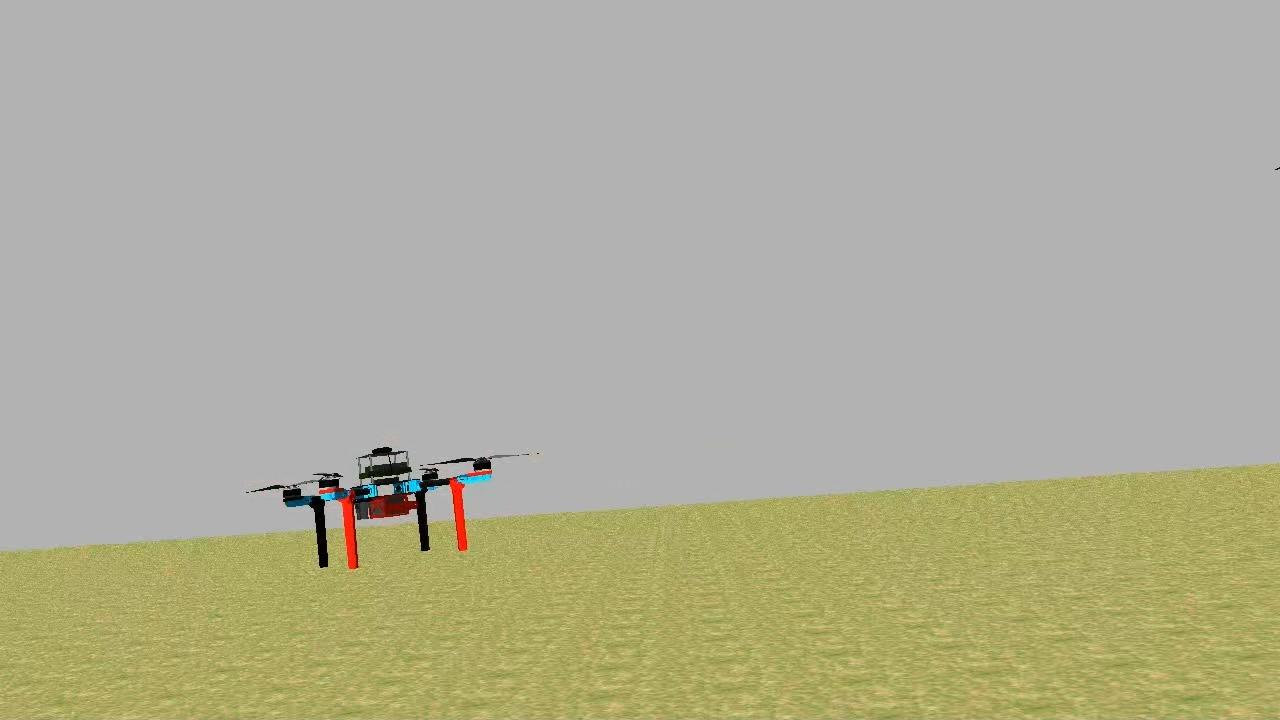UAV: (278, 436, 500, 574)
